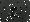person: (9, 8, 17, 18)
